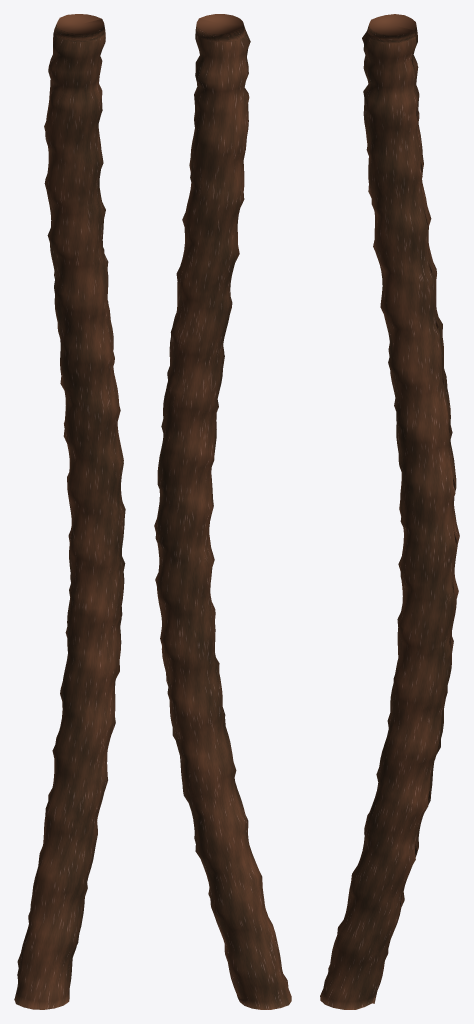
Rendered from f3_rebar01_v4.glb.
The picture shows the model from 3 angles, left to right: view 1: azimuth 30°, elevation 25°; view 2: azimuth 150°, elevation 25°; view 3: azimuth 330°, elevation 25°; orthographic projection.
Parts seen in each view (by area): view 1: F3_EXPOSED_REBAR01_V4; view 2: F3_EXPOSED_REBAR01_V4; view 3: F3_EXPOSED_REBAR01_V4.
Part boxes in pixels (x1=…): F3_EXPOSED_REBAR01_V4: x1=14, y1=14, x2=125, y2=1009; F3_EXPOSED_REBAR01_V4: x1=154, y1=14, x2=291, y2=1009; F3_EXPOSED_REBAR01_V4: x1=320, y1=14, x2=459, y2=1009.
Bounding box in the file's own units: 0.2018 × 1.55 × 0.1197.
Materials: 1 (1 with a texture image).
